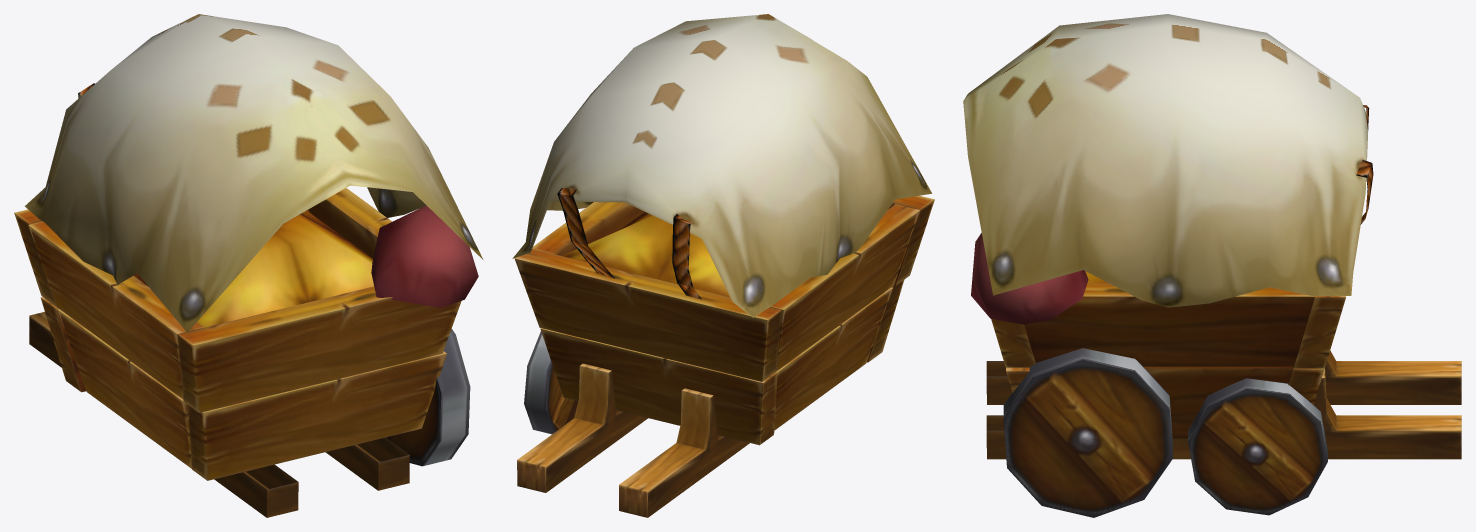
File: mache.FBX
3 renders of one model, left to right at view 1: azimuth 30°, elevation 25°; view 2: azimuth 150°, elevation 25°; view 3: azimuth 270°, elevation 25°, orthographic. The views are drawn at different scales.
Visible parts, largest first — view 1: mache; view 2: mache; view 3: mache.
Boxes of the visible parts, x1,y1,x2,y2 form: mache: (14, 14, 483, 517); mache: (512, 14, 934, 517); mache: (963, 14, 1461, 517).
Size of the model in its own units: 99.63 by 133 by 141.
